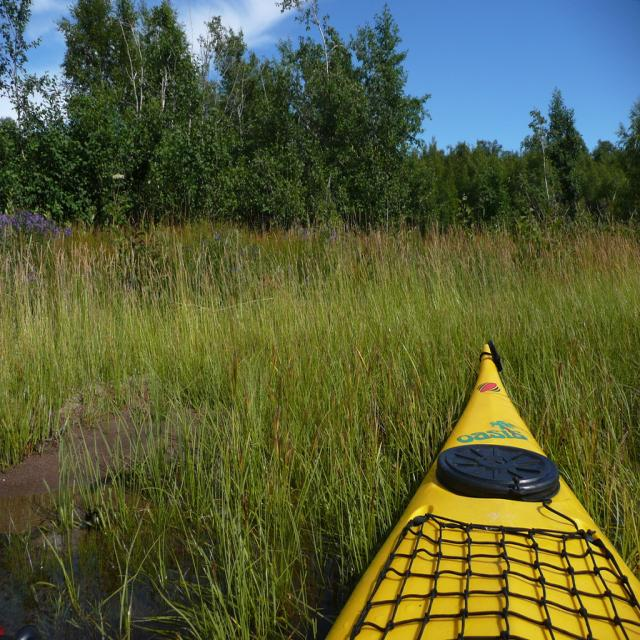Boat: (338, 337, 626, 614)
